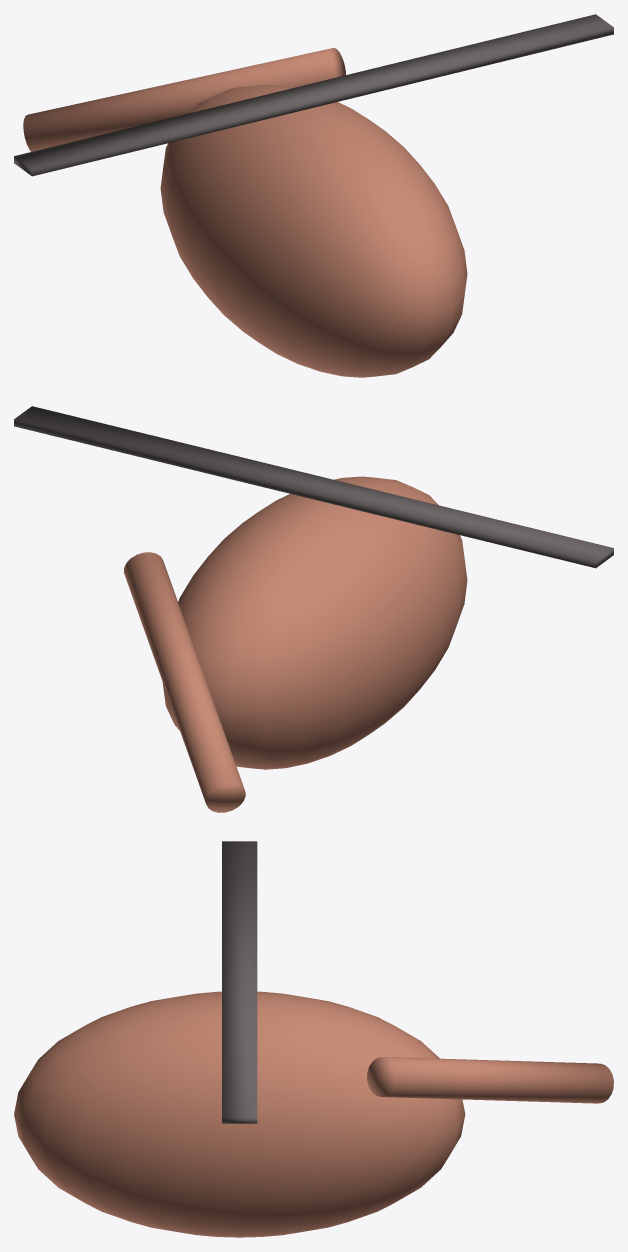
The model's file is helicopter.glb.
3 renders of one model, top to bottom at view 1: azimuth 30°, elevation 25°; view 2: azimuth 150°, elevation 25°; view 3: azimuth 270°, elevation 25°, orthographic. The views are drawn at different scales.
Visible parts, largest first — view 1: fuse, rotor, boom; view 2: fuse, rotor, boom; view 3: fuse, rotor, boom.
Part boxes in pixels (x1,y1,x2,y2): fuse: (160, 84, 467, 377); rotor: (14, 14, 613, 176); boom: (23, 48, 345, 151); fuse: (162, 476, 467, 769); rotor: (14, 406, 613, 568); boom: (124, 552, 245, 812); fuse: (14, 991, 465, 1237); rotor: (222, 841, 257, 1123); boom: (367, 1057, 613, 1103).
Bounding box in the file's own units: 2.6 × 1.09 × 2.39.
